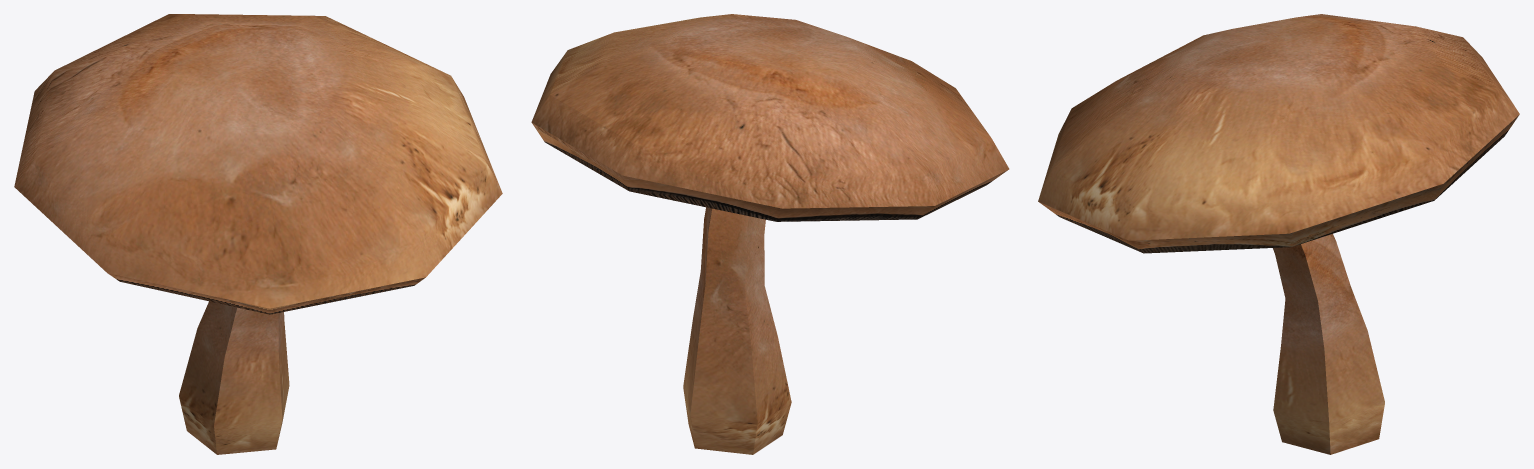
Rendered from MushroomBrownMedium_LOD1.obj.
The picture shows the model from 3 angles, left to right: view 1: azimuth 30°, elevation 25°; view 2: azimuth 150°, elevation 25°; view 3: azimuth 270°, elevation 25°; orthographic projection.
Parts seen in each view (by area): view 1: MushroomBrownMedium_LOD1; view 2: MushroomBrownMedium_LOD1; view 3: MushroomBrownMedium_LOD1.
Part boxes in pixels (x1,y1,x2,y2): MushroomBrownMedium_LOD1: [14, 14, 502, 454]; MushroomBrownMedium_LOD1: [531, 14, 1009, 454]; MushroomBrownMedium_LOD1: [1038, 14, 1519, 454].
Bounding box in the file's own units: 0.2391 × 0.2191 × 0.2393.
